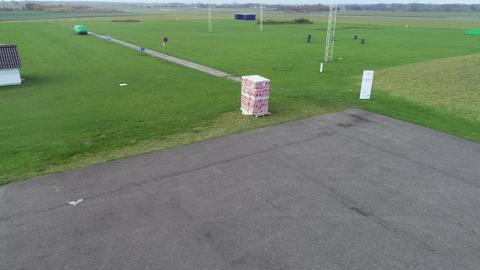RockwoolPallet: (241, 74, 270, 118)
